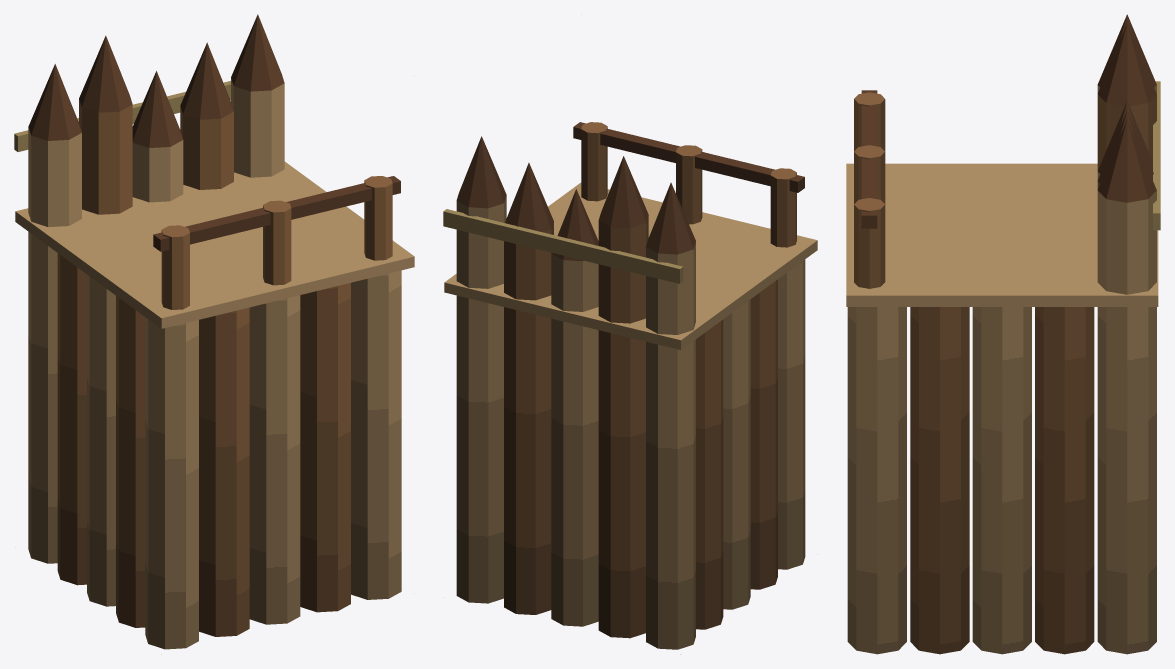
Rendered from perimeter_wall_wood_f10.glb.
The picture shows the model from 3 angles, left to right: view 1: azimuth 30°, elevation 25°; view 2: azimuth 150°, elevation 25°; view 3: azimuth 270°, elevation 25°; orthographic projection. The views are drawn at different scales.
Bounding box in the file's own units: 2 × 3.9 × 2.01.
Materials: 1 (1 with a texture image).
